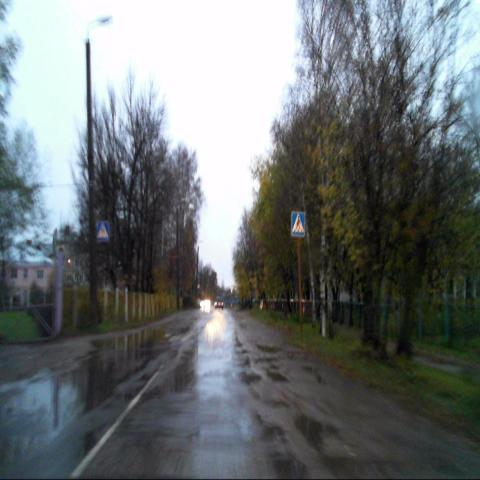5_19_1: (291, 210, 305, 236), (96, 221, 110, 241)
